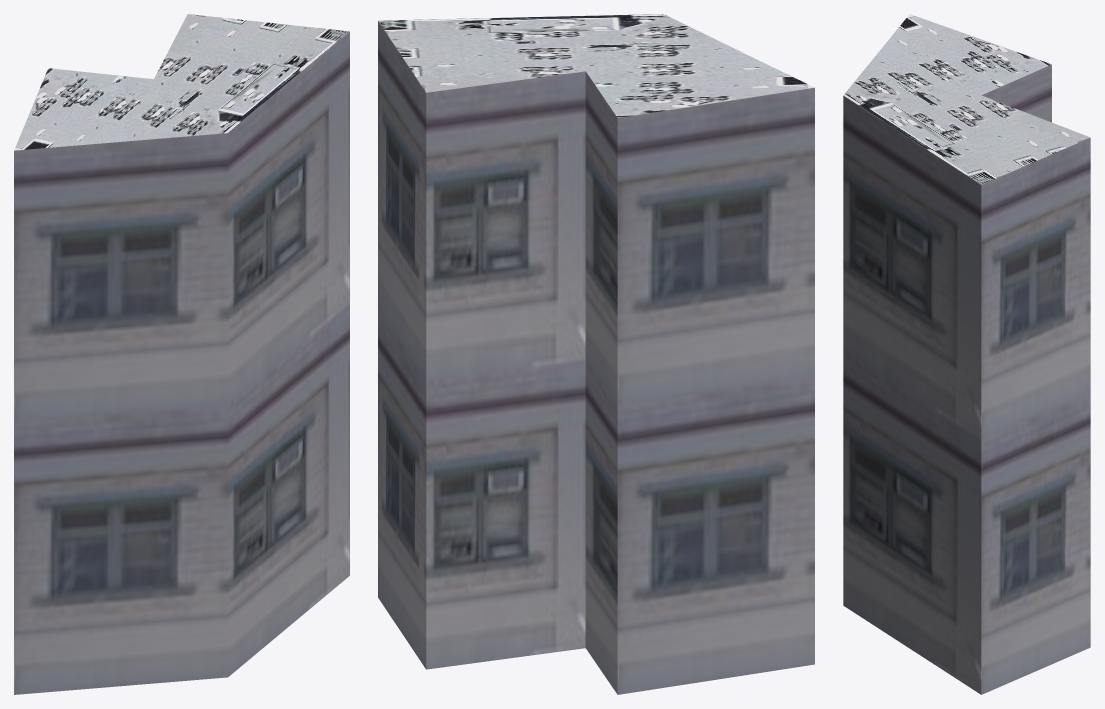
Rendered from ResTex__2906.fbx.
3 views of the same model, side by side, from view 1: azimuth 30°, elevation 25°; view 2: azimuth 150°, elevation 25°; view 3: azimuth 270°, elevation 25° (orthographic). The views are drawn at different scales.
Visible parts, largest first — view 1: CityEngineMaterial_1_m, CityEngineMaterial_8_m; view 2: CityEngineMaterial_1_m, CityEngineMaterial_8_m; view 3: CityEngineMaterial_1_m, CityEngineMaterial_8_m.
Boxes of the visible parts, x1,y1,x2,y2 form: CityEngineMaterial_1_m: (14,31,349,694); CityEngineMaterial_8_m: (14,14,349,150); CityEngineMaterial_1_m: (378,21,814,694); CityEngineMaterial_8_m: (378,14,814,117); CityEngineMaterial_1_m: (843,64,1090,694); CityEngineMaterial_8_m: (843,14,1090,184).
Bounding box in the file's own units: 4.32 × 6 × 2.64.
2 materials, 2 textured.
